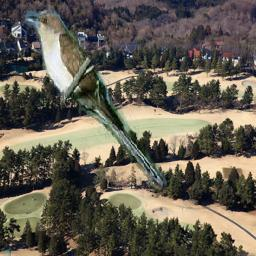Cuckoo: (21, 9, 167, 194)
